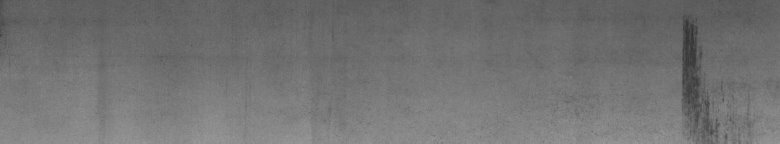ka: (675, 16, 759, 136)
